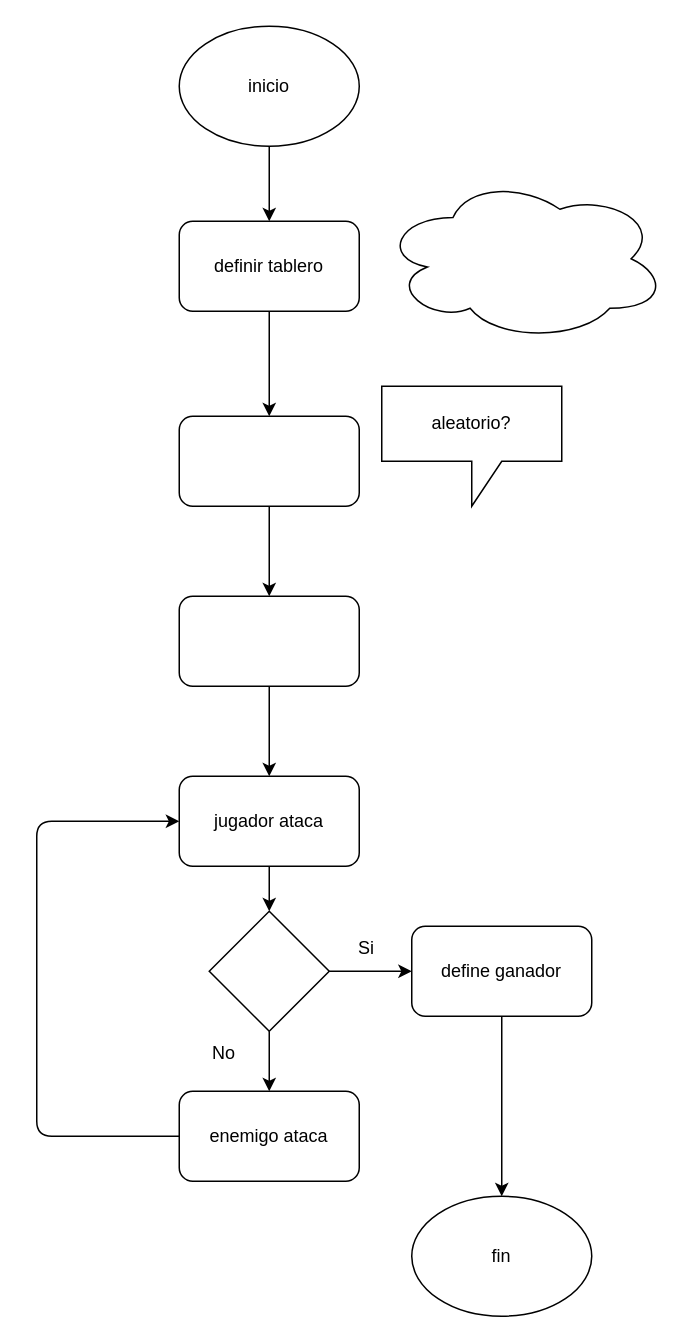
The diagram is 693 pixels wide and 1343 high, and some of its shapes have lost their labels. Here are the shapes that lost their labels. From the top down, the box of each, then its label:
(380, 175, 667, 341): crearlo y mostrarlo
(178, 415, 359, 506): definir poscicion barcos jugador
(178, 595, 359, 686): definir poscicion barcos enemigo
(208, 910, 329, 1031): si alguno pierde
